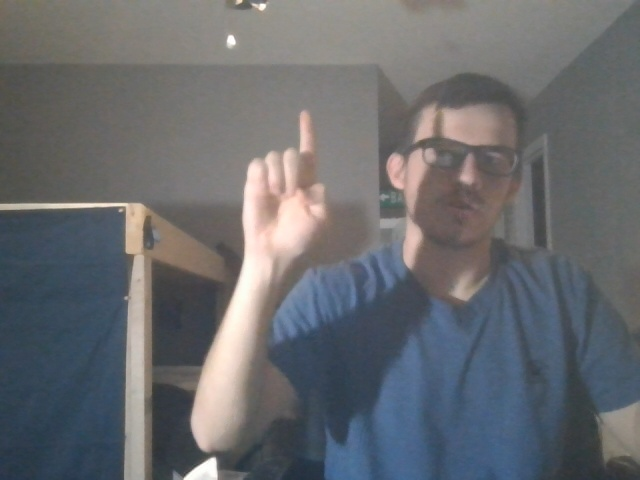D: (216, 109, 342, 264)
